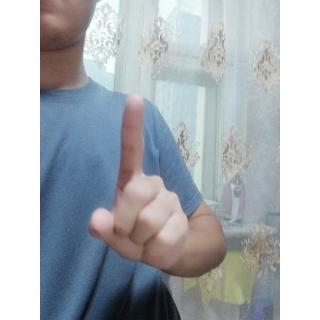BAA: (86, 90, 191, 275)
